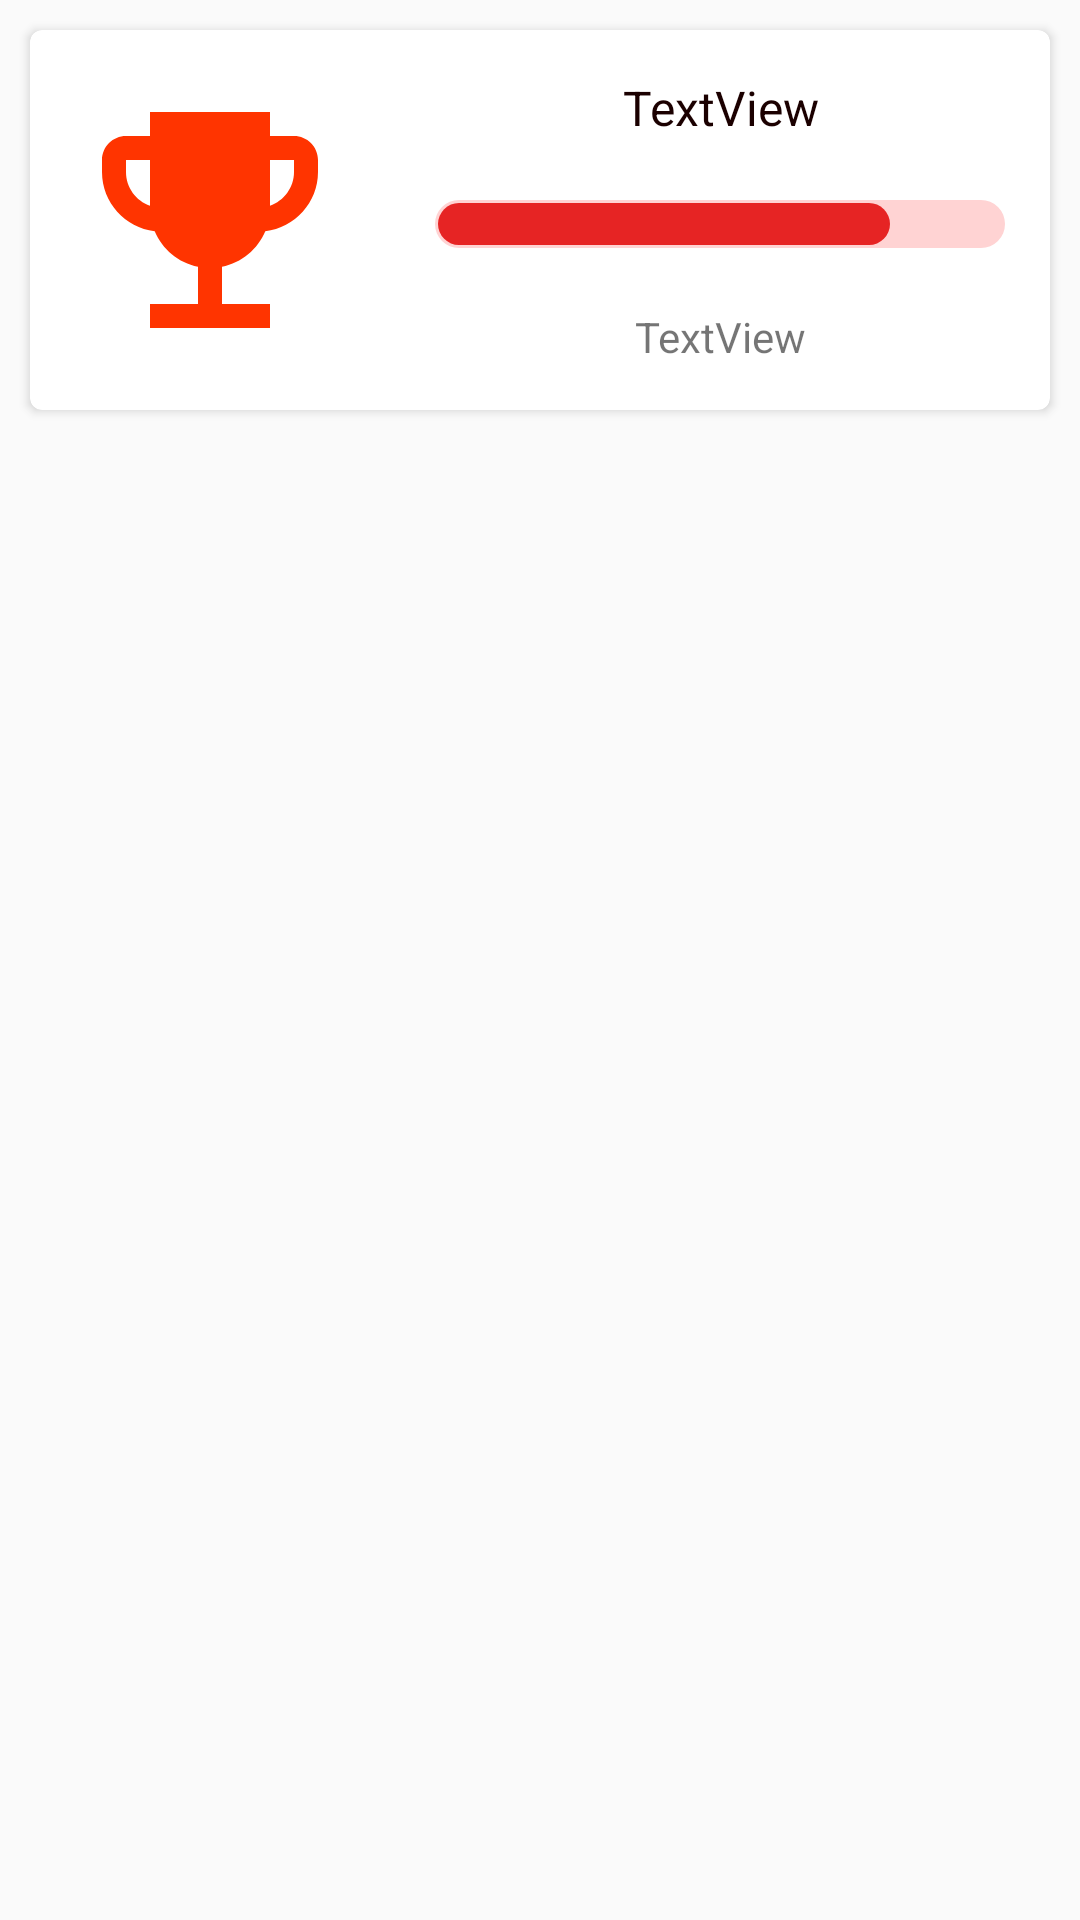

Icons on this 1080×1920 Android screen, each with its box as (x1, y1, x2, y2):
emoji events: (102, 112, 318, 328)
